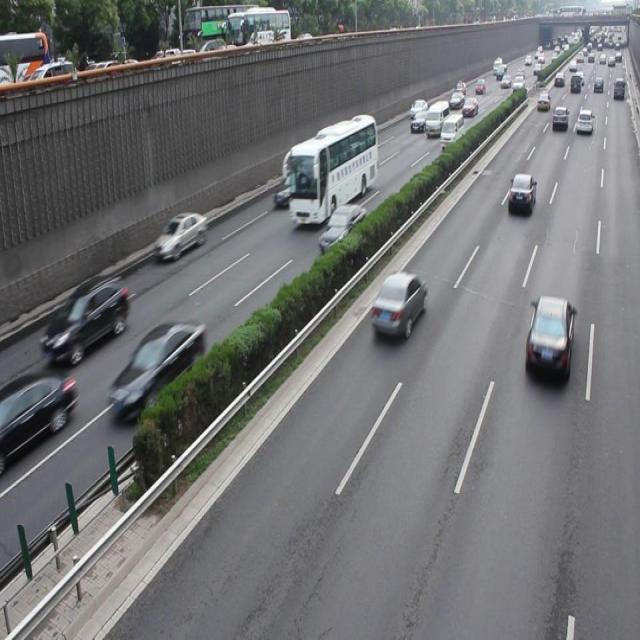car: (105, 319, 206, 421), (41, 275, 130, 361), (1, 368, 78, 462), (524, 293, 572, 380), (369, 270, 425, 338), (152, 212, 207, 262), (317, 202, 368, 252), (272, 170, 307, 208), (506, 172, 535, 216)
van: (284, 114, 377, 223)
